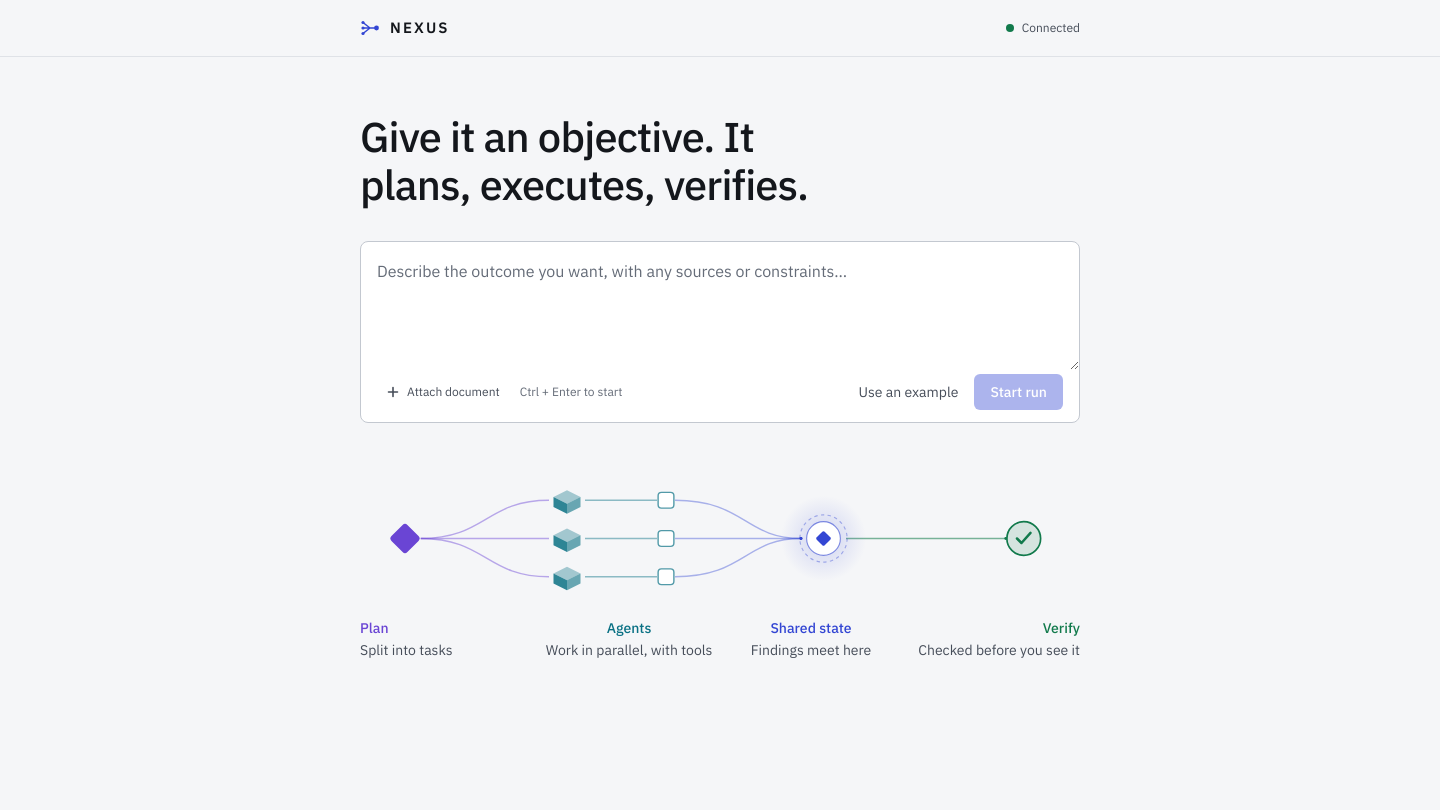
Test case: Objective page › fills the objective with an example on request
Step 1. Click the button "Use an example" → (908, 392), box x1=850 y1=376 x2=966 y2=408
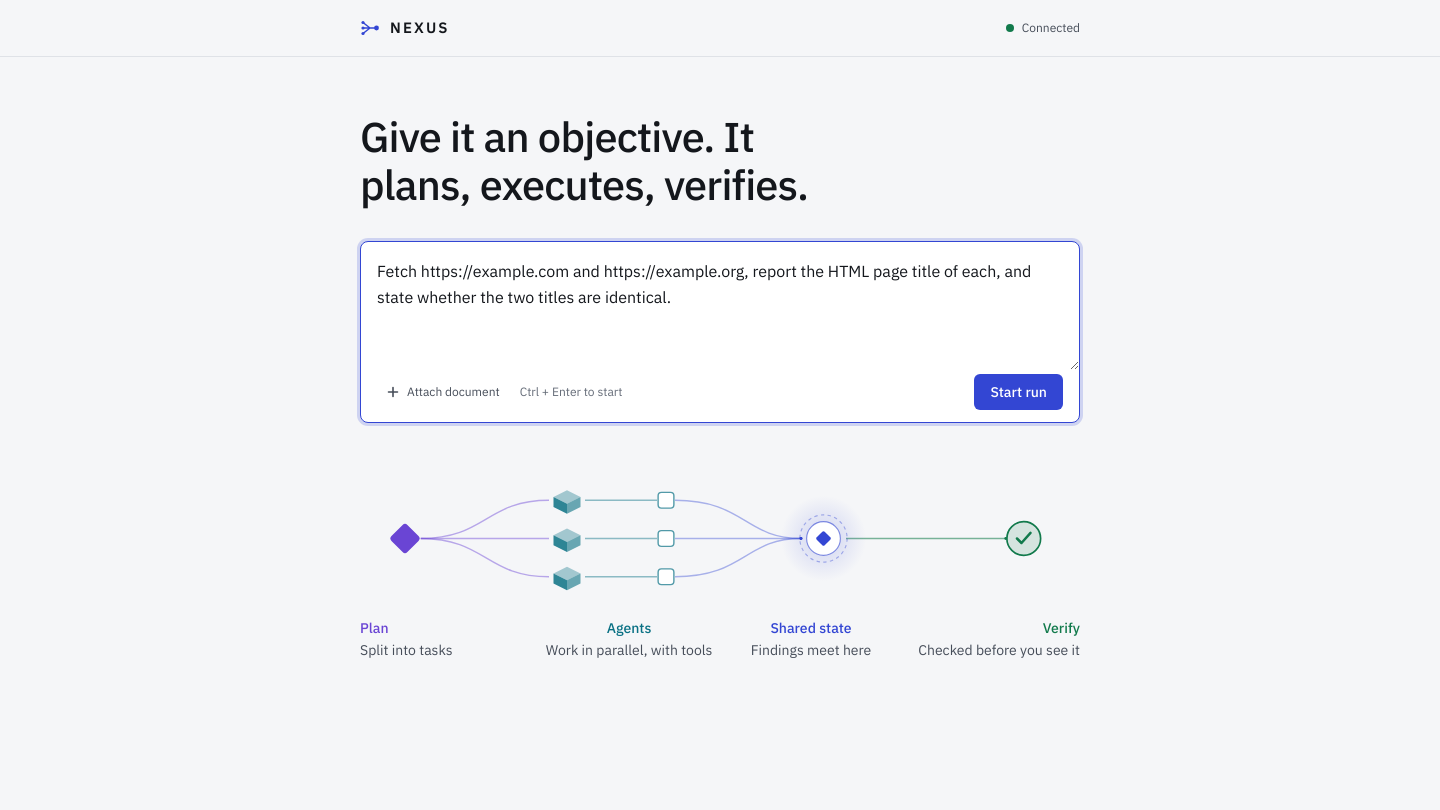
Check: the text box named "Objective" holds "Fetch https://example.com and https://example.org, report the HTML page title of each, and state whether the two titles are identical.", box x1=361 y1=242 x2=1079 y2=370
Check: the button "Start run" is enabled, box x1=974 y1=374 x2=1063 y2=410
